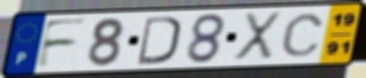8: (184, 12, 227, 65), (86, 16, 127, 68)
C: (279, 12, 327, 59)
D: (136, 15, 182, 67)
F: (33, 17, 91, 70)
X: (231, 10, 284, 62)
